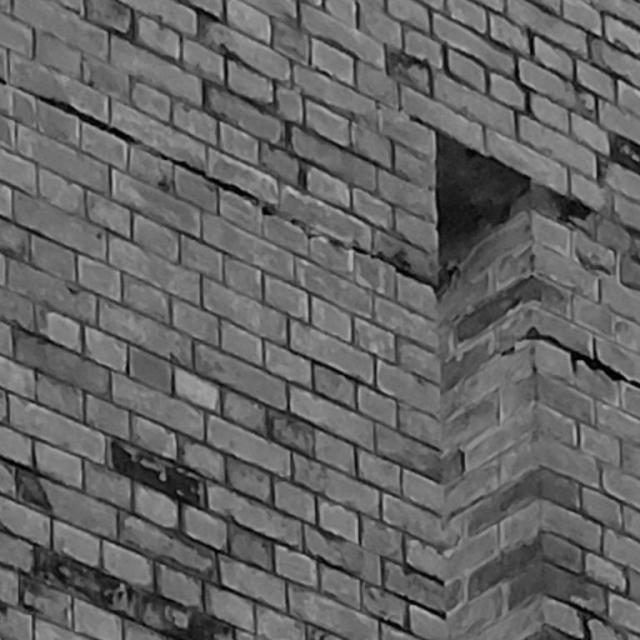crack: (1, 79, 437, 292), (501, 326, 640, 390)
